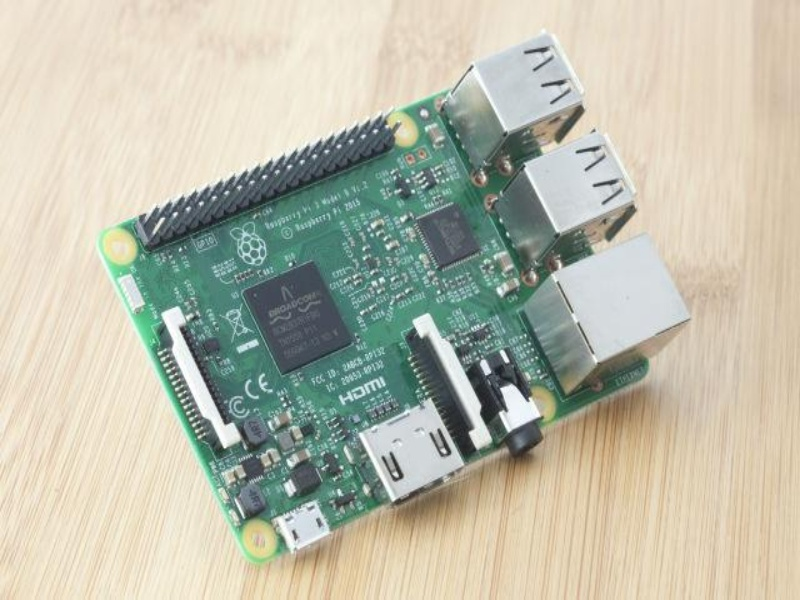raspberrypi: (107, 22, 636, 498)
